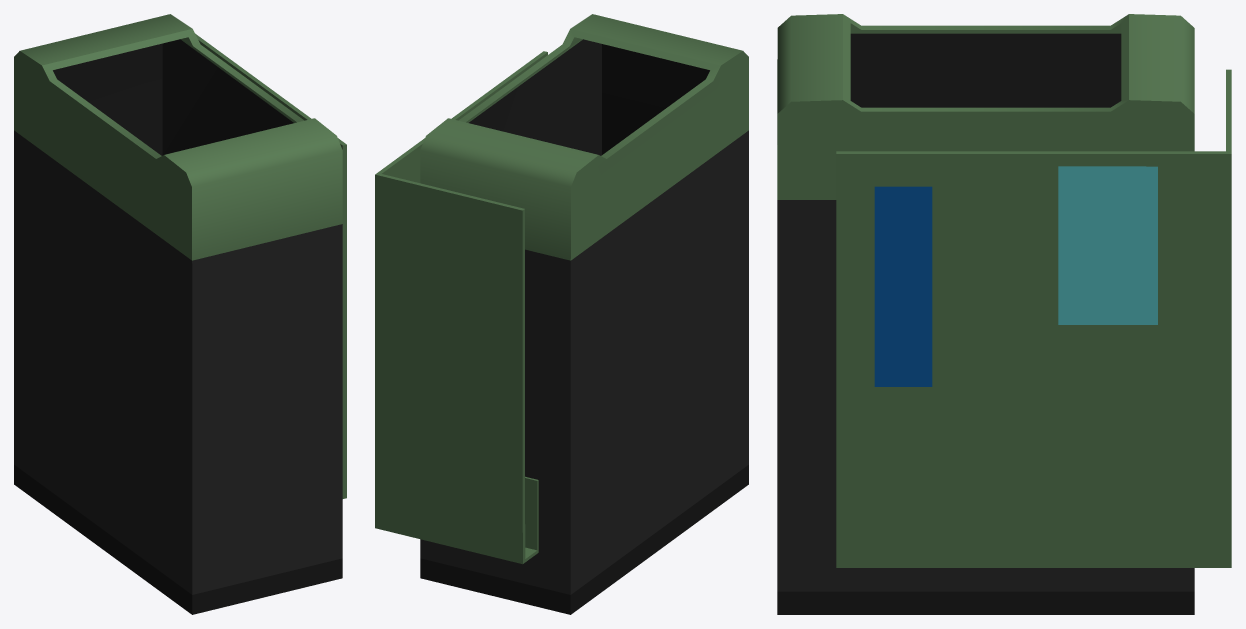
Rendered from W_O_Trash_001_L3.fbx.
3 renders of one model, left to right at view 1: azimuth 30°, elevation 25°; view 2: azimuth 150°, elevation 25°; view 3: azimuth 270°, elevation 25°, orthographic. The views are drawn at different scales.
Parts seen in each view (by area): view 1: W_O_Trash_001_L3; view 2: W_O_Trash_001_L3; view 3: W_O_Trash_001_L3.
Boxes of the visible parts, <box> form: W_O_Trash_001_L3: <box>14,14,346,614</box>; W_O_Trash_001_L3: <box>375,14,748,614</box>; W_O_Trash_001_L3: <box>777,14,1231,614</box>.
Bounding box in the file's own units: 0.3802 × 0.8846 × 0.7076.
